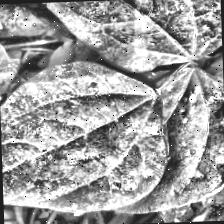Bean Rust: (0, 60, 175, 213), (104, 63, 224, 214), (0, 0, 222, 76)
